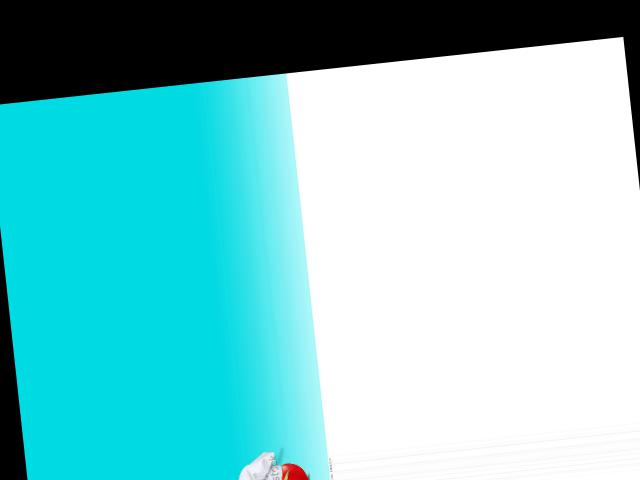tomato: (271, 461, 309, 480)
